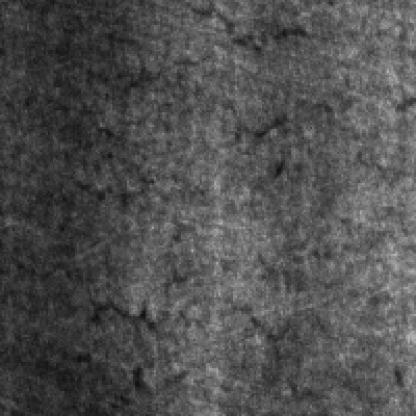crazing: (52, 6, 312, 160), (66, 302, 324, 404)
